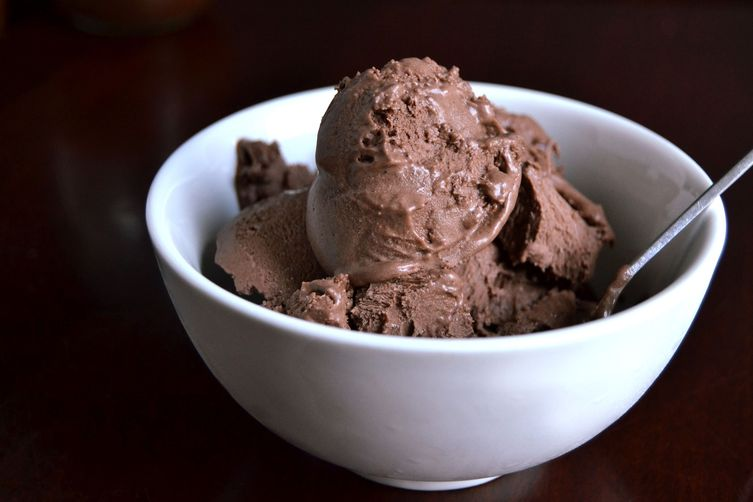ice-cream: (211, 58, 637, 335)
